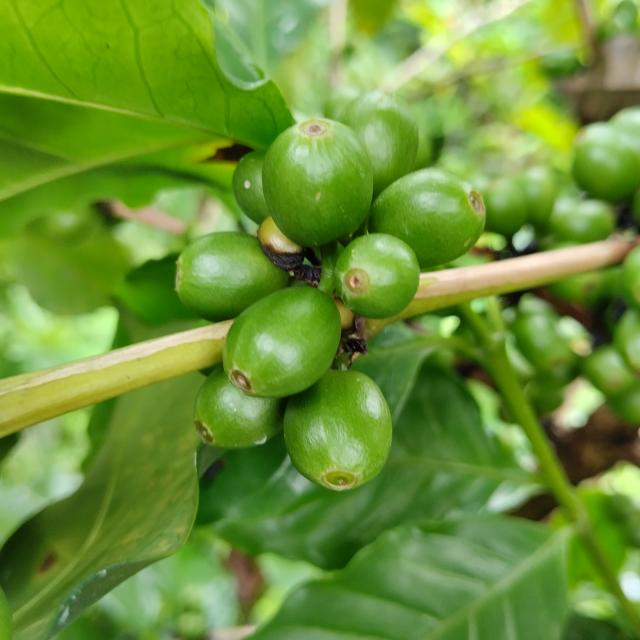green: (262, 118, 373, 247), (222, 286, 341, 398), (284, 370, 392, 492), (369, 167, 486, 268), (175, 231, 289, 322), (340, 89, 419, 197), (194, 368, 287, 449), (335, 233, 420, 319), (232, 151, 270, 224)
